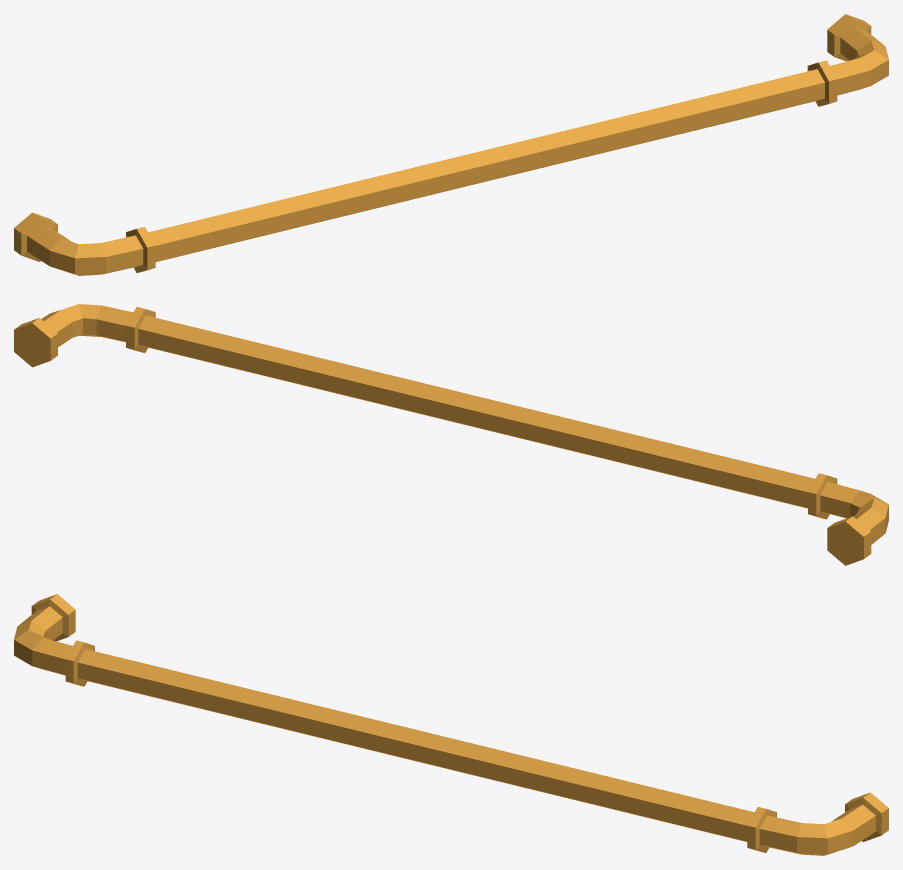
The model's file is SM_Ladder_Sliding_Rail_Short.fbx.
3 views of the same model, one above another, from view 1: azimuth 30°, elevation 25°; view 2: azimuth 150°, elevation 25°; view 3: azimuth 330°, elevation 25° (orthographic).
Visible parts, largest first — view 1: ladder-sliding-rail-short; view 2: ladder-sliding-rail-short; view 3: ladder-sliding-rail-short.
Part boxes in pixels (bbox=[...]): ladder-sliding-rail-short: bbox=[14, 14, 888, 275]; ladder-sliding-rail-short: bbox=[14, 304, 888, 565]; ladder-sliding-rail-short: bbox=[14, 594, 888, 855].
Bounding box in the file's own units: 0.9177 × 0.0458 × 0.0999.
